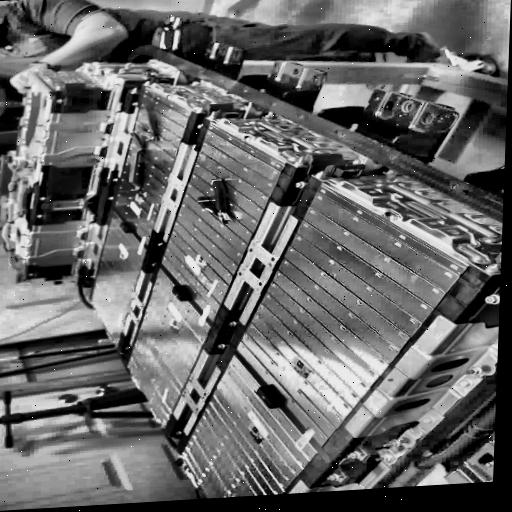battery_module: (235, 182, 470, 445), (160, 121, 287, 321), (180, 354, 316, 499), (126, 268, 212, 428), (113, 88, 191, 246), (90, 208, 147, 346)
nut: (381, 436, 409, 448), (463, 366, 489, 375), (323, 471, 344, 482), (483, 293, 500, 305), (347, 450, 363, 459), (294, 179, 306, 188), (196, 120, 208, 129), (146, 259, 158, 268), (54, 96, 67, 104), (155, 239, 167, 247), (33, 212, 46, 219), (25, 270, 37, 277), (128, 99, 140, 106), (109, 175, 121, 182), (228, 319, 238, 327), (216, 342, 226, 350), (122, 343, 132, 351), (38, 194, 49, 201), (173, 429, 183, 436), (106, 194, 116, 200)
